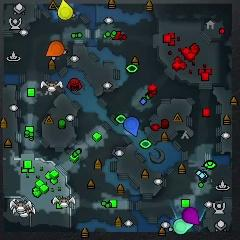p1: (124, 116, 140, 137)
p2: (174, 218, 193, 234)
p3: (183, 207, 199, 225)
p4: (58, 0, 73, 21)
p5: (46, 40, 64, 57)
